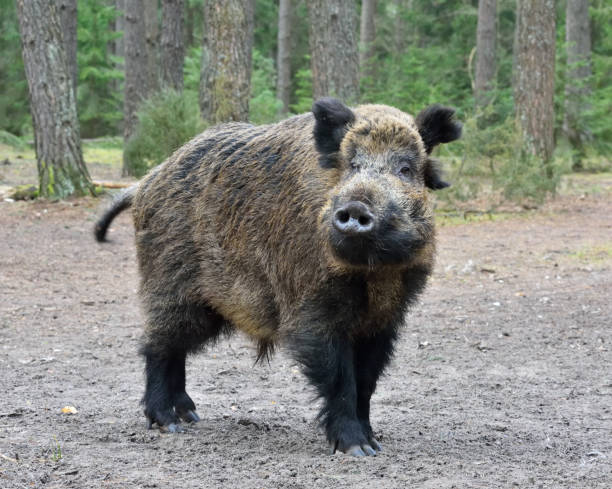pig: (86, 106, 439, 460), (93, 285, 103, 287)
